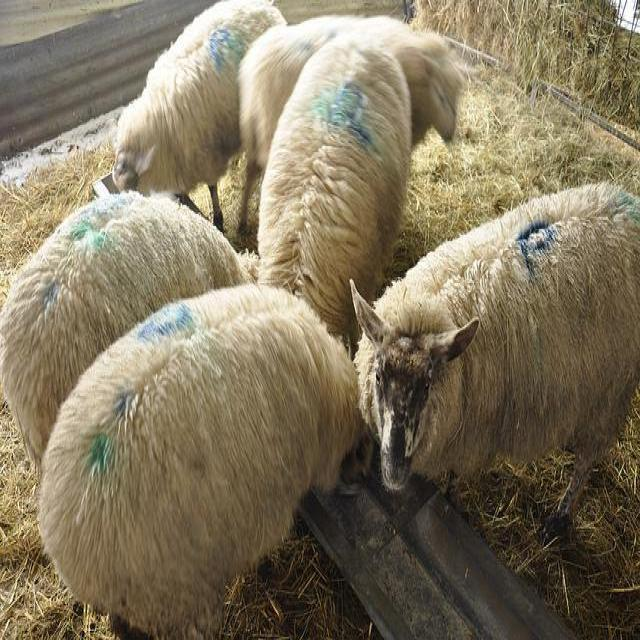Sheep: (37, 280, 376, 634), (350, 181, 639, 544), (0, 190, 261, 473), (254, 29, 412, 360), (233, 12, 462, 232), (114, 0, 287, 232)
